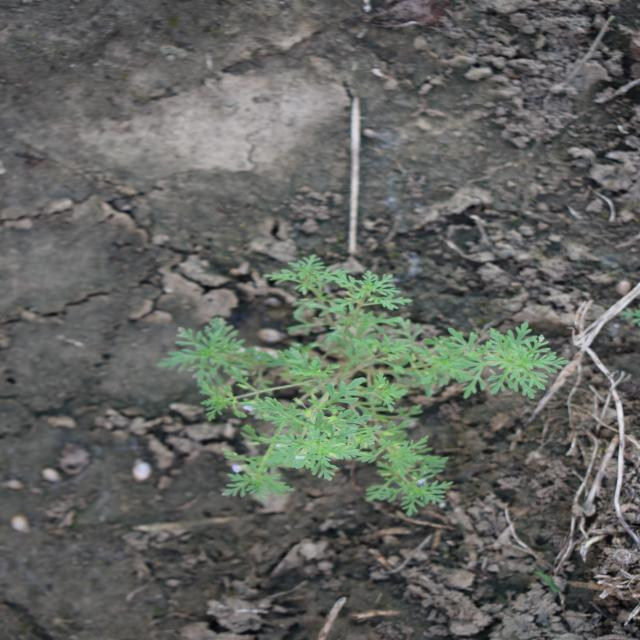Ragweed: (155, 253, 572, 517)
